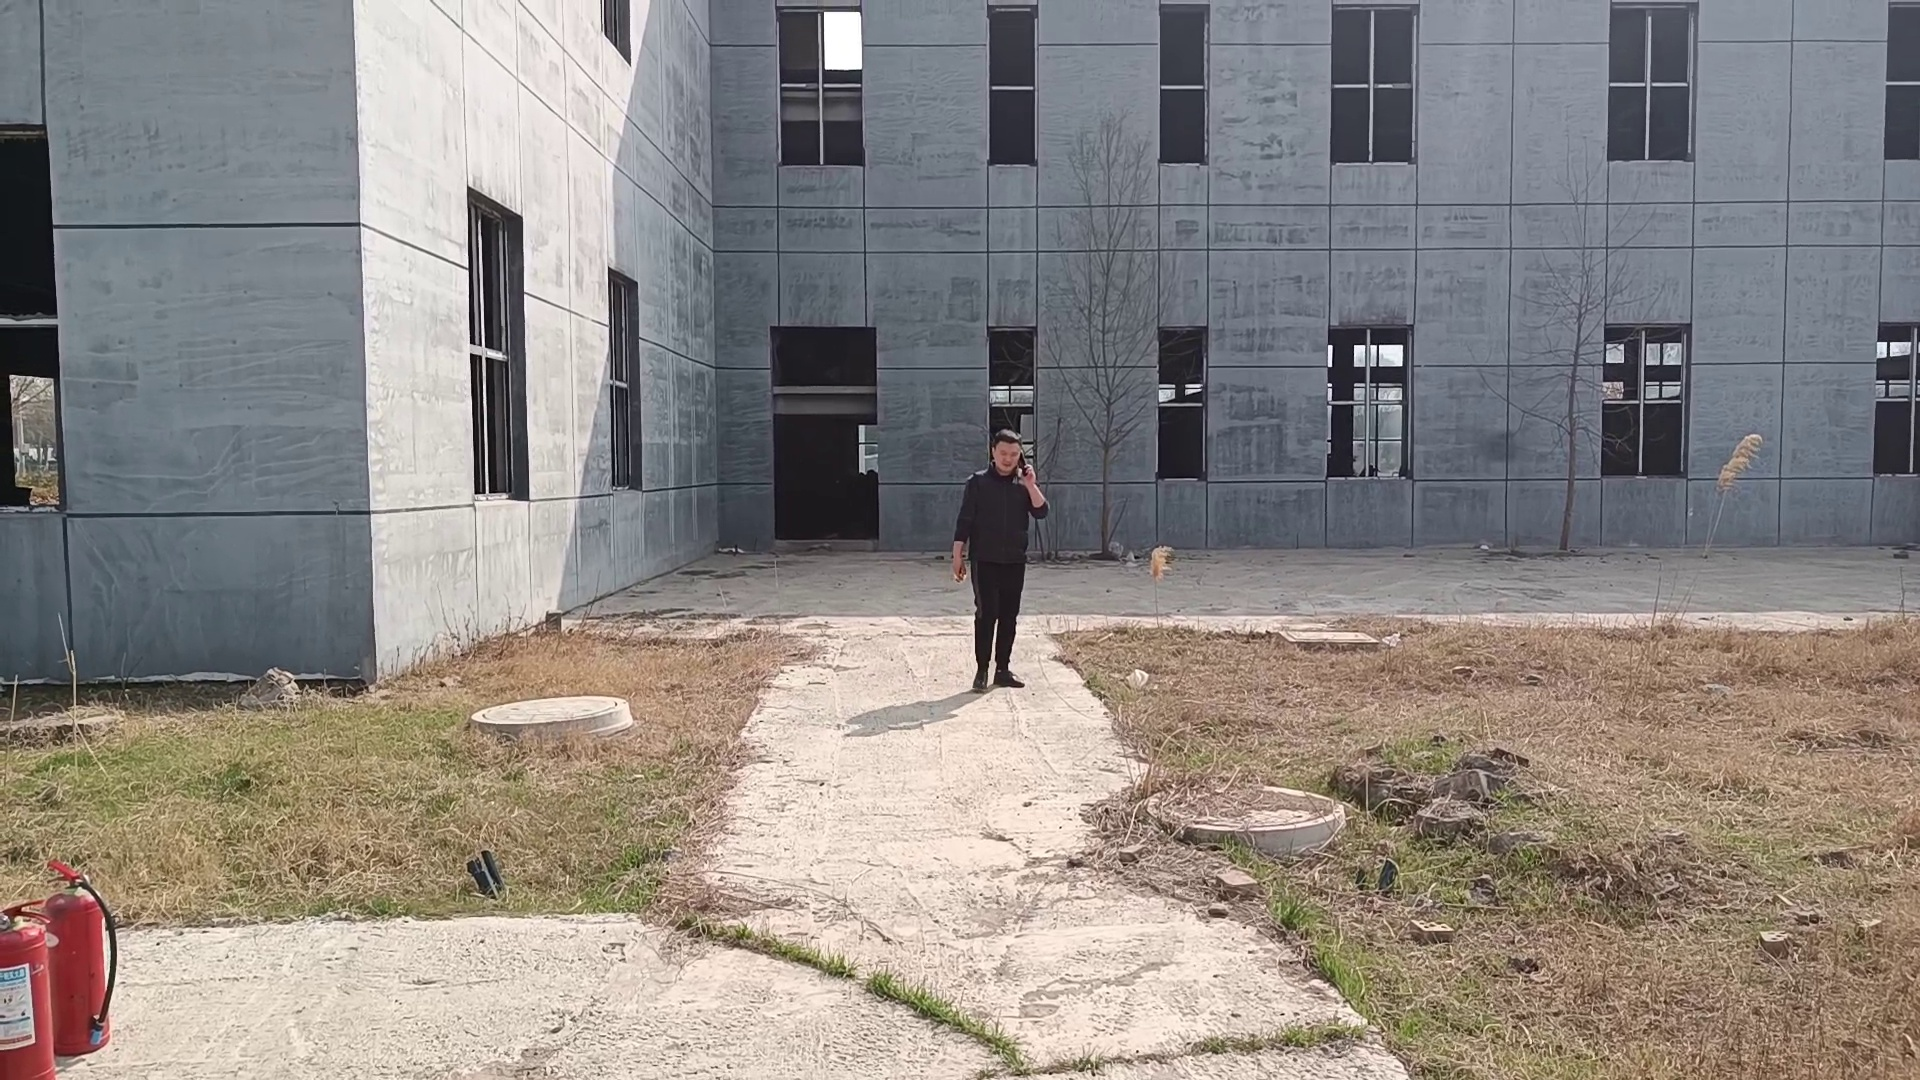phone: (992, 430, 1036, 483)
